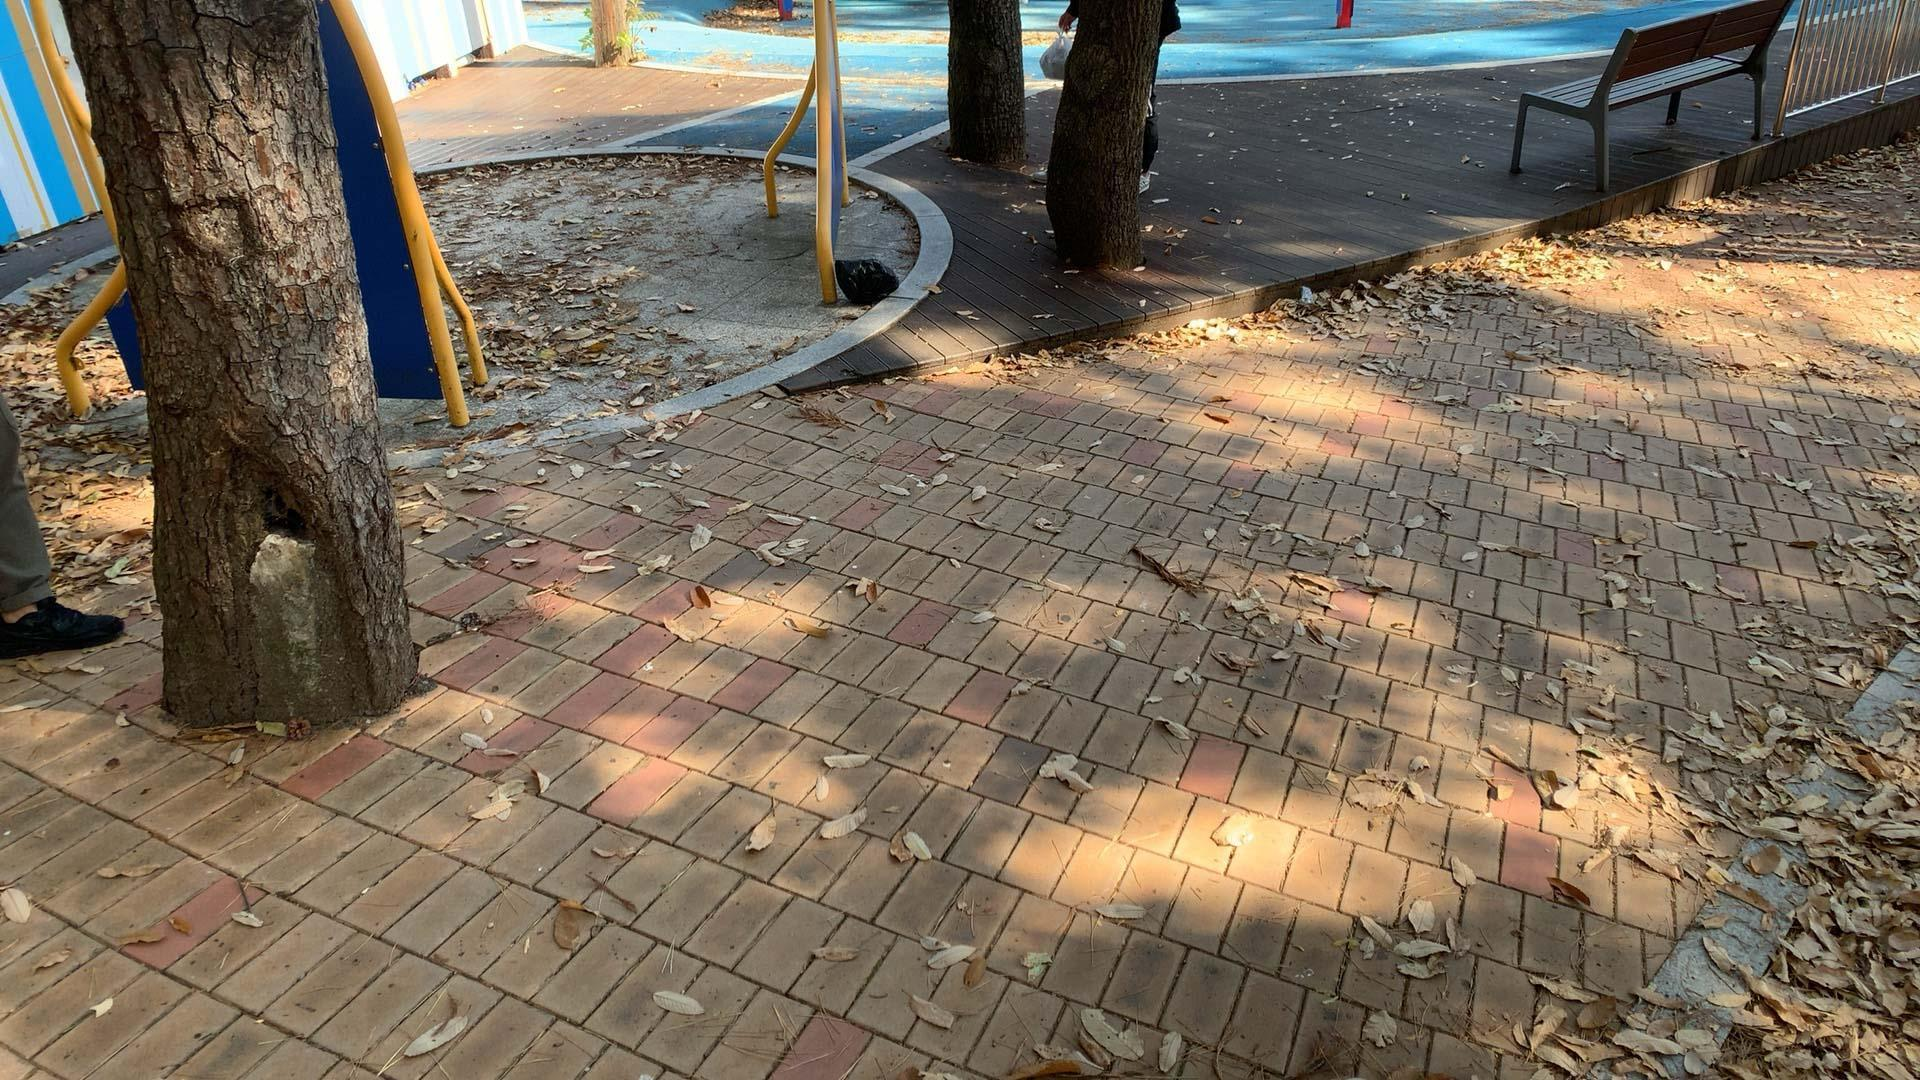black_bag: (829, 255, 899, 303)
